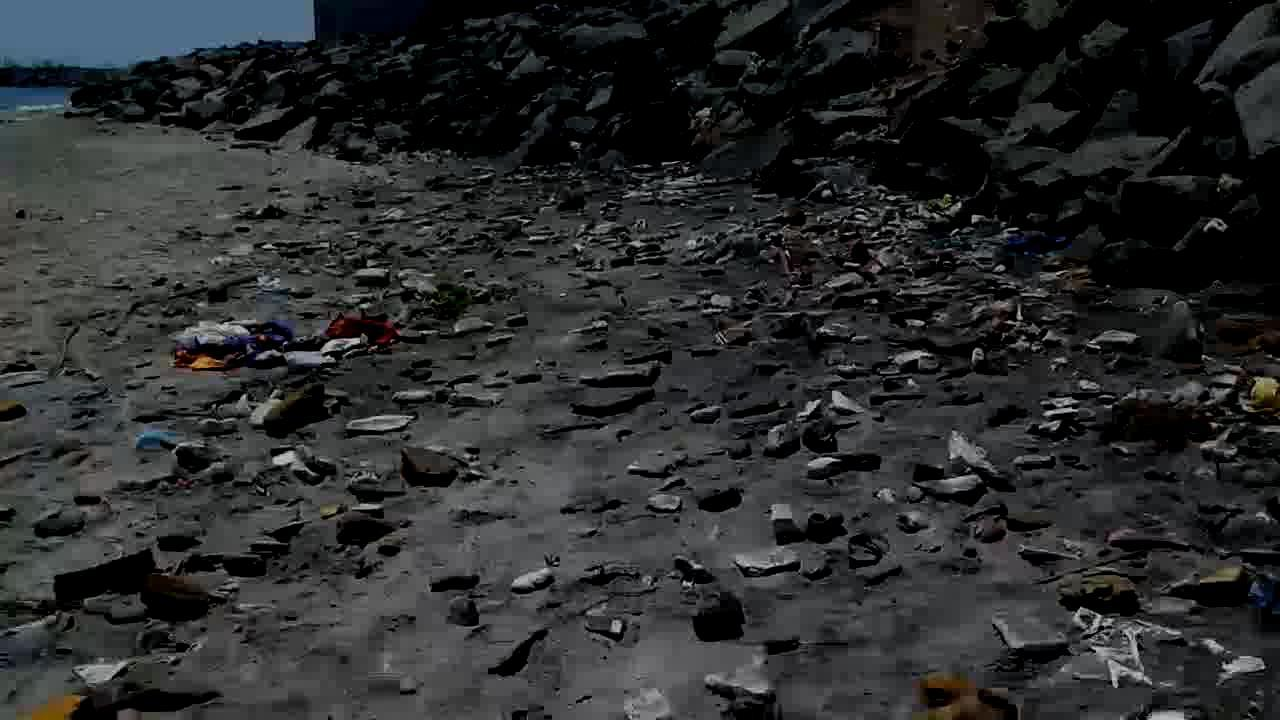large collection of objects: (652, 199, 1068, 468)
obj: (44, 262, 266, 382), (1044, 610, 1274, 712), (161, 312, 403, 372), (1096, 386, 1226, 463), (51, 545, 160, 607), (83, 680, 230, 719), (386, 264, 494, 317), (908, 671, 1025, 719), (702, 648, 782, 718), (686, 582, 750, 647), (485, 622, 551, 681), (143, 569, 219, 618), (1054, 572, 1140, 615), (1174, 560, 1252, 606), (266, 381, 328, 435), (399, 442, 463, 488), (67, 655, 140, 694), (1234, 373, 1278, 419), (699, 485, 750, 520), (19, 694, 86, 718), (768, 640, 854, 656), (617, 337, 674, 361), (1, 440, 49, 466), (136, 430, 184, 450), (315, 496, 349, 524), (842, 453, 884, 474), (0, 398, 30, 424)
sand/background: (0, 0, 1279, 367)
